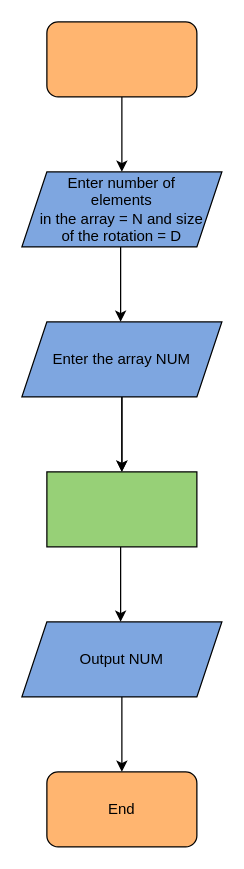
The diagram is 244 pixels wide and 869 high, and some of its shapes have lost their labels. Each missing label, with the centre of its shape:
Replace first D elements of the array with the last (N-D) elements: (121,509)
Start: (121,59)
